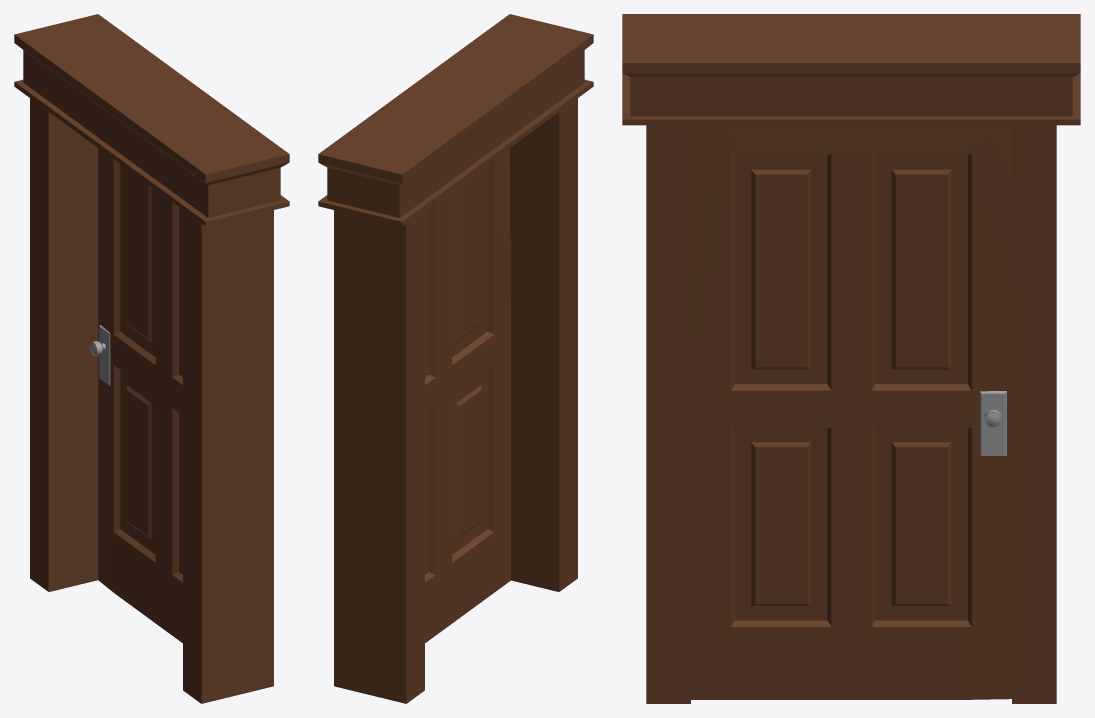
File: Prop_InteriorDoor.glb
The picture shows the model from 3 angles, left to right: view 1: azimuth 30°, elevation 25°; view 2: azimuth 150°, elevation 25°; view 3: azimuth 270°, elevation 25°; orthographic projection. The views are drawn at different scales.
Visible parts, largest first — view 1: Prop_InteriorDoor; view 2: Prop_InteriorDoor; view 3: Prop_InteriorDoor.
Part boxes in pixels (x1,y1,x2,y2): Prop_InteriorDoor: [14, 14, 289, 703]; Prop_InteriorDoor: [318, 14, 593, 703]; Prop_InteriorDoor: [622, 14, 1080, 703].
Size of the model in its own units: 0.4069 by 2.48 by 1.6.
